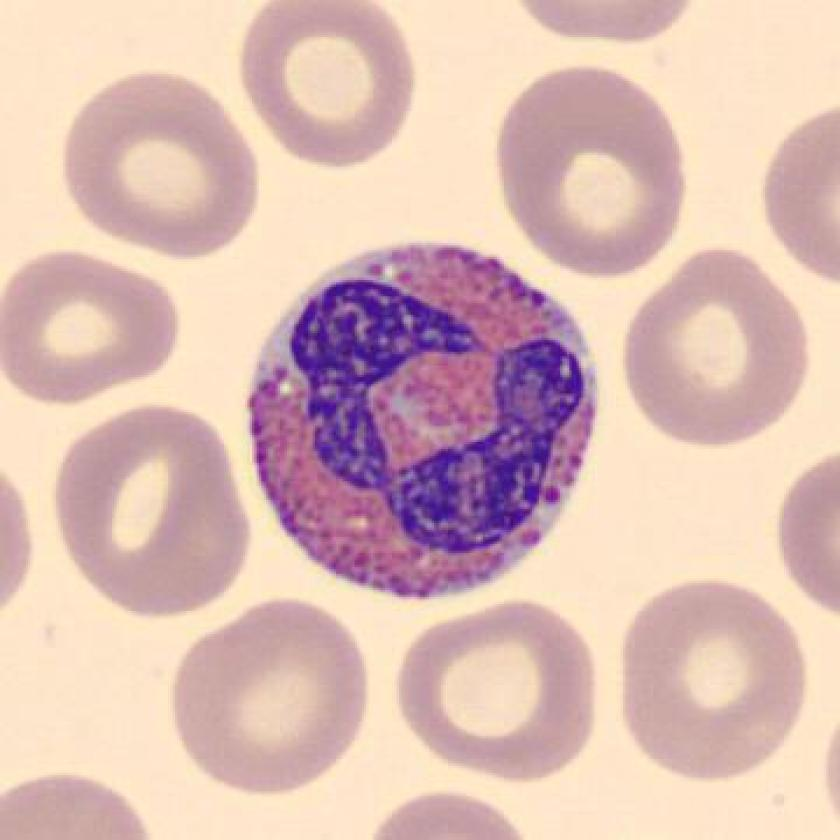eosinophil: (239, 230, 603, 612)
